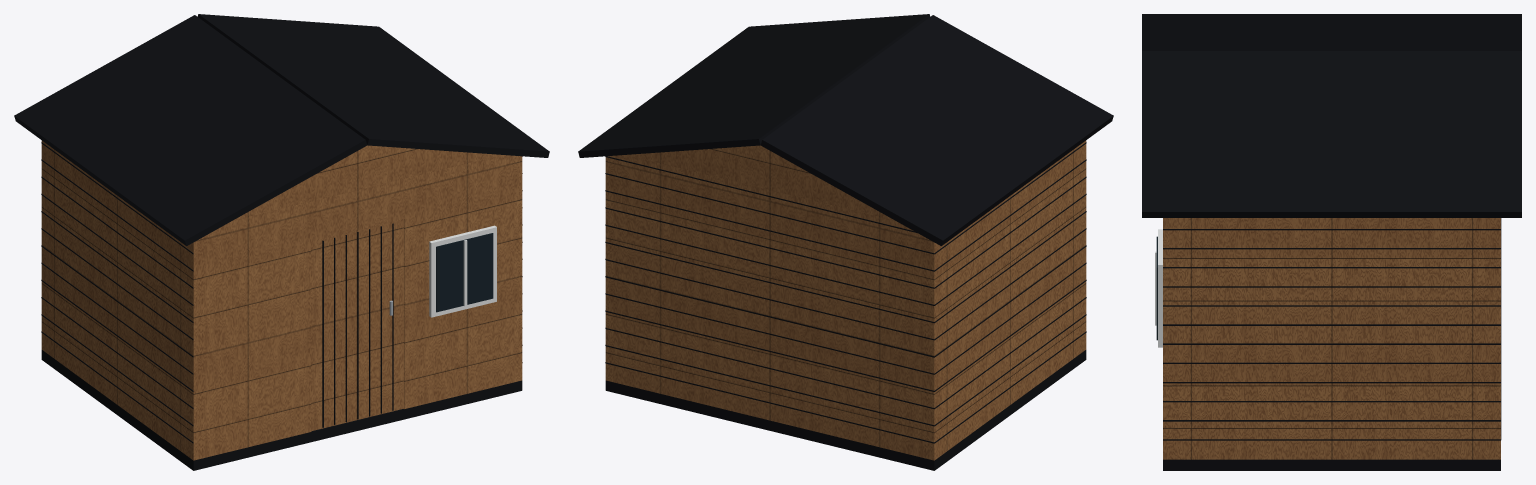
Rendered from Kerti_kishaz.obj.
3 views of the same model, side by side, from view 1: azimuth 30°, elevation 25°; view 2: azimuth 150°, elevation 25°; view 3: azimuth 270°, elevation 25° (orthographic). The views are drawn at different scales.
Bounding box in the file's own units: 3.33 × 2.6 × 2.7.
Materials: 5 (1 with a texture image).
